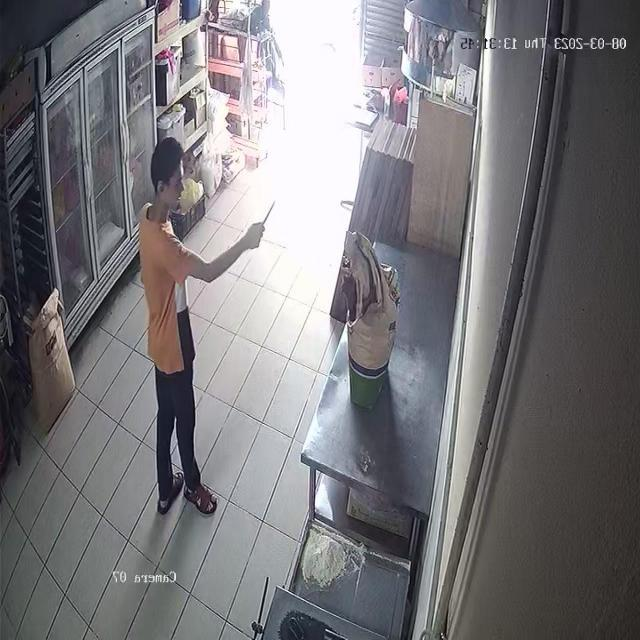Knife: (255, 190, 287, 248)
